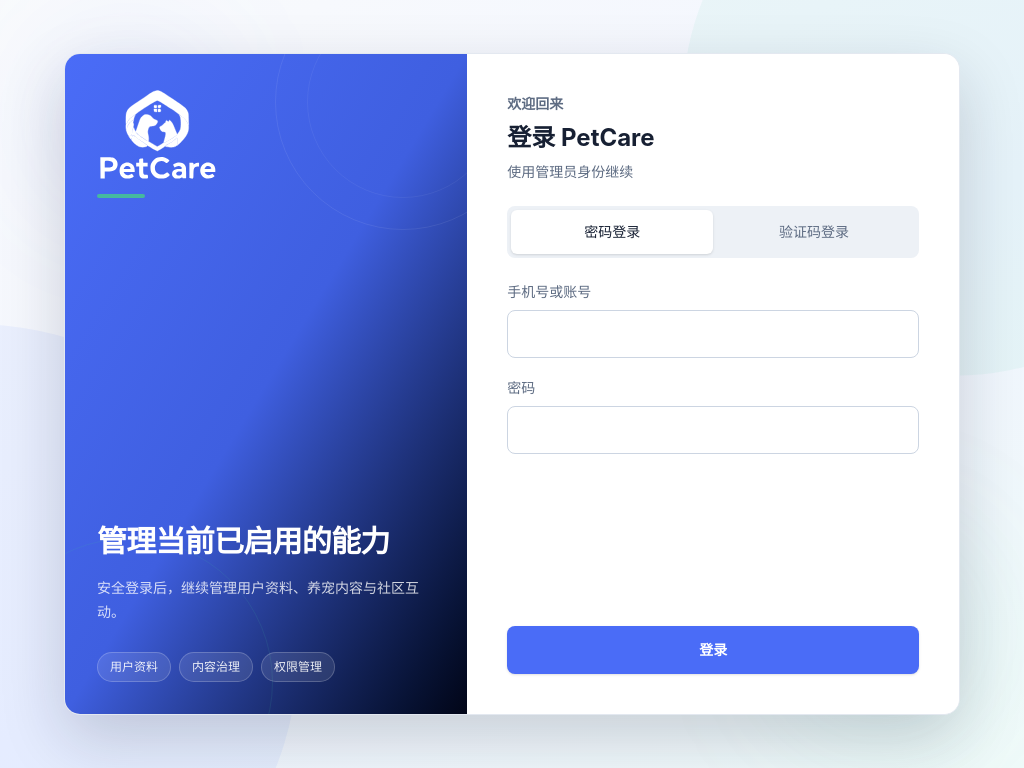
Test: Login › validates a Chinese mobile number before sending a code
Click the tab "验证码登录". click: click(814, 232)
box: [713,210,915,254]
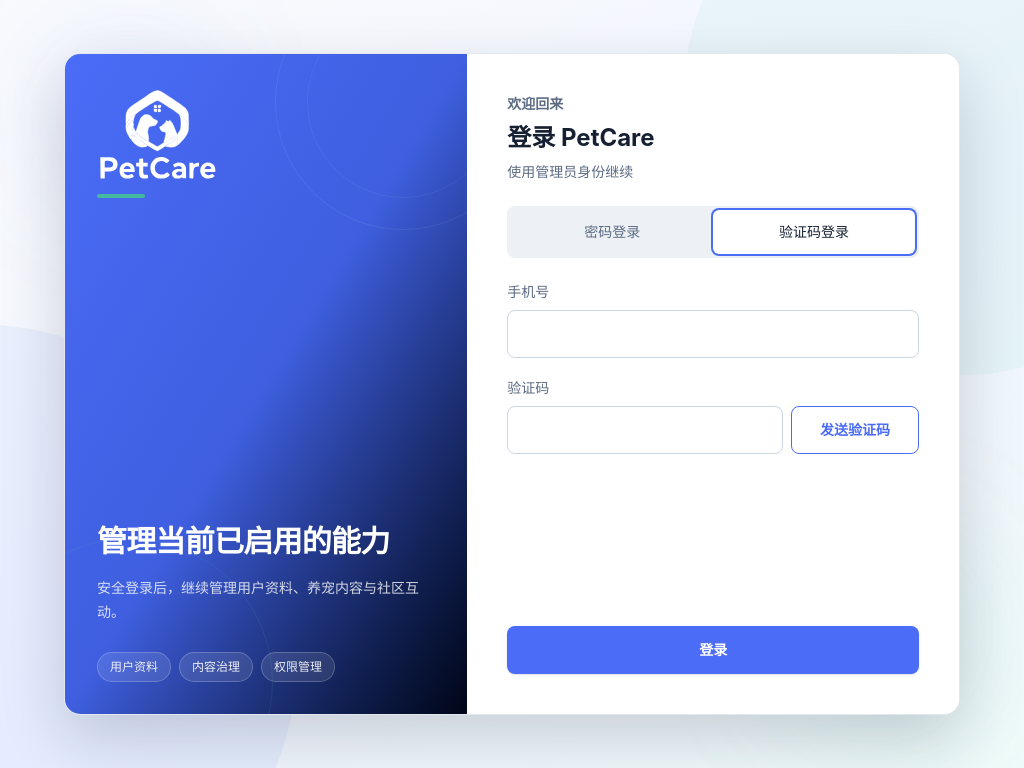
Type "12345" into the field labelled "手机号". click: (713, 334)
box: [507,310,919,358]
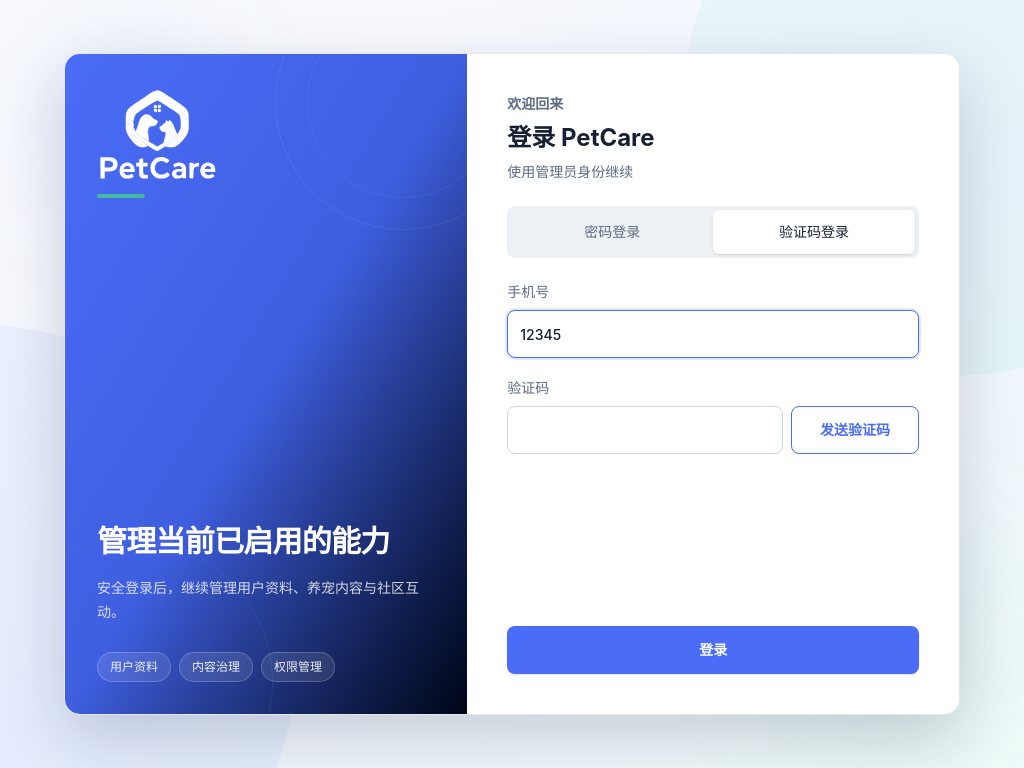
Click the button "发送验证码". click: click(855, 430)
box: [791,406,919,454]
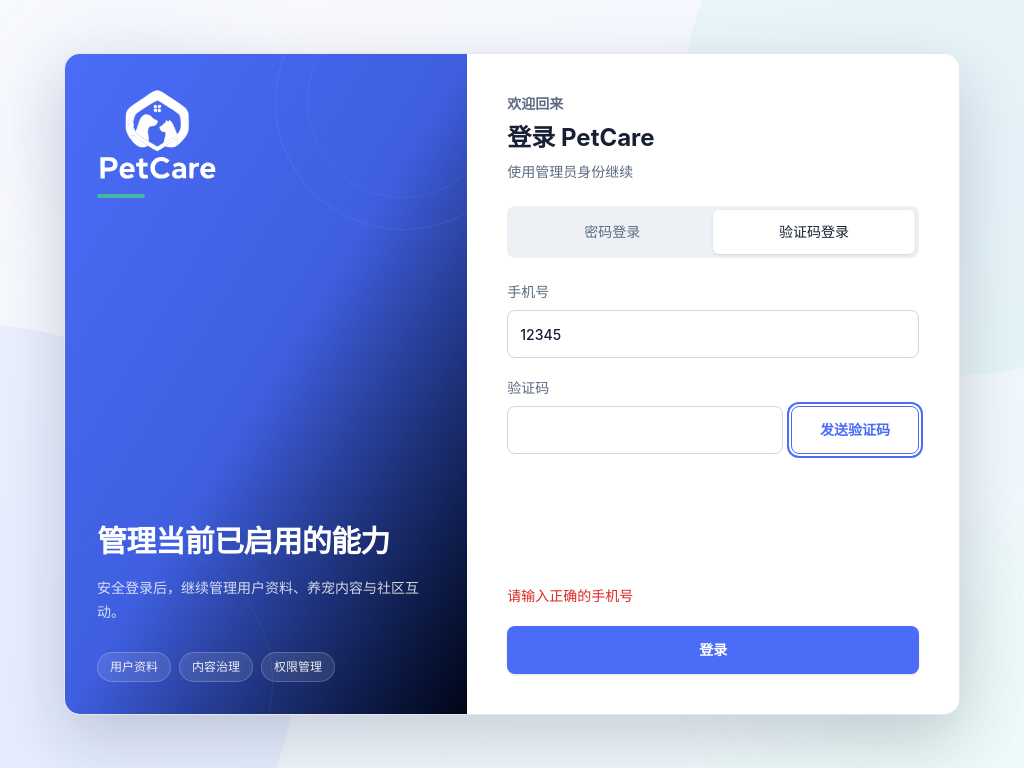
Expected: the message reads "请输入正确的手机号", [507,587,633,604]
